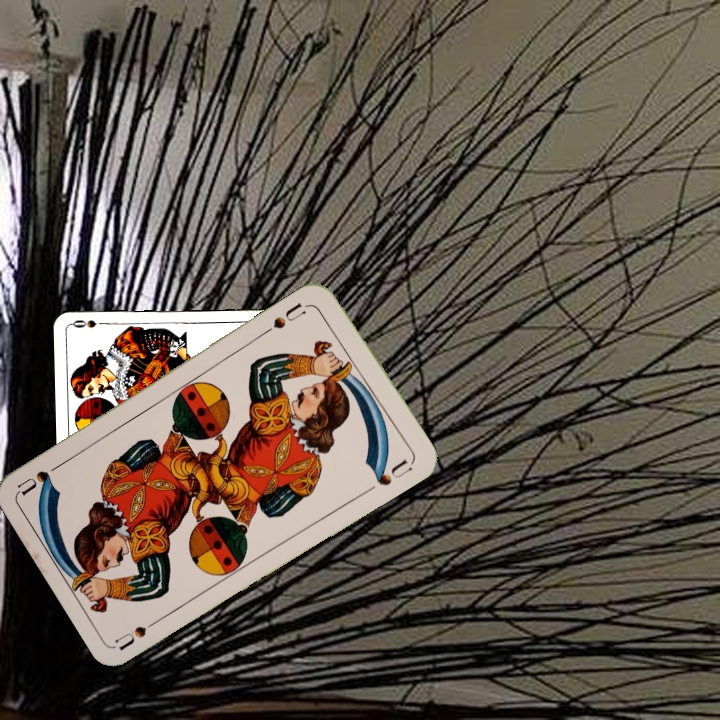SU: (112, 611, 168, 652), (269, 298, 309, 332)
